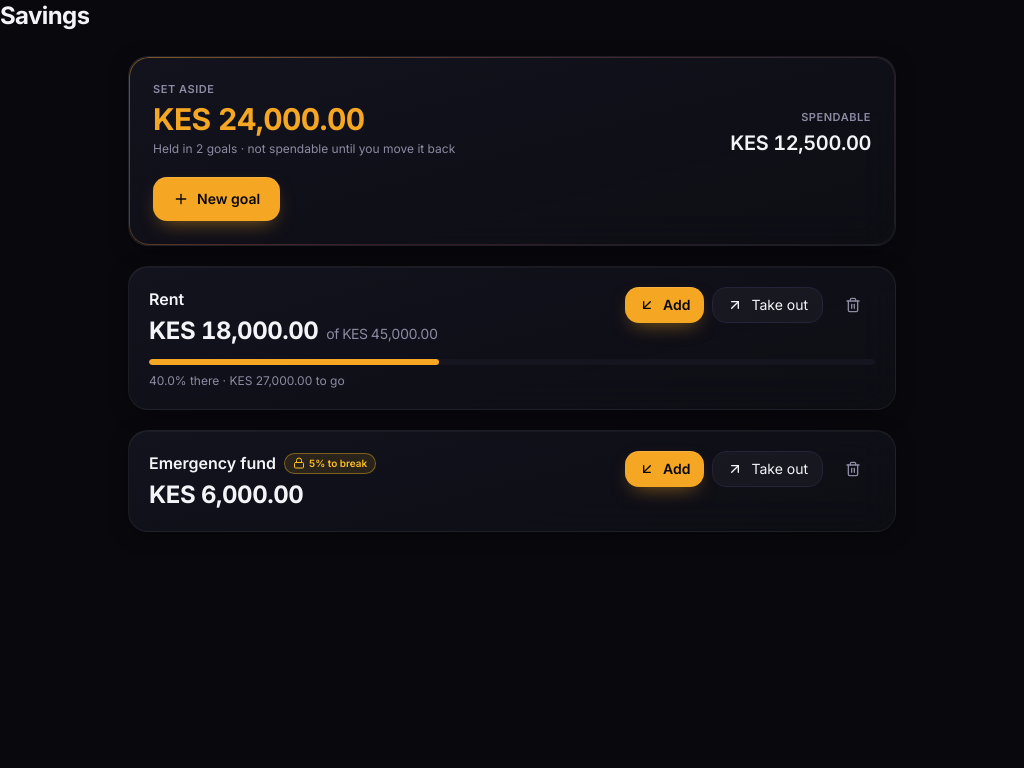
Test: Savings › refuses to take out more than a goal holds
The image size is (1024, 768).
Click the button "Take out" in the row of "% to break" at (768, 469), box [712,451,823,487]
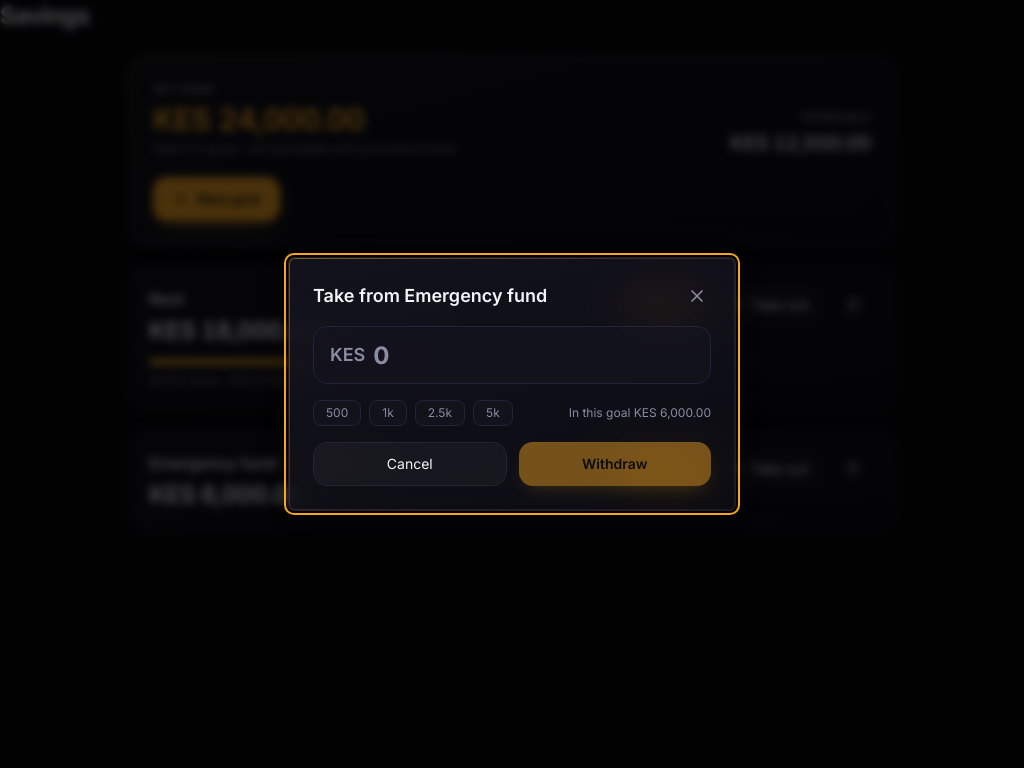
Type "9999" into the field named "amount" at (534, 355), box [373,327,694,383]
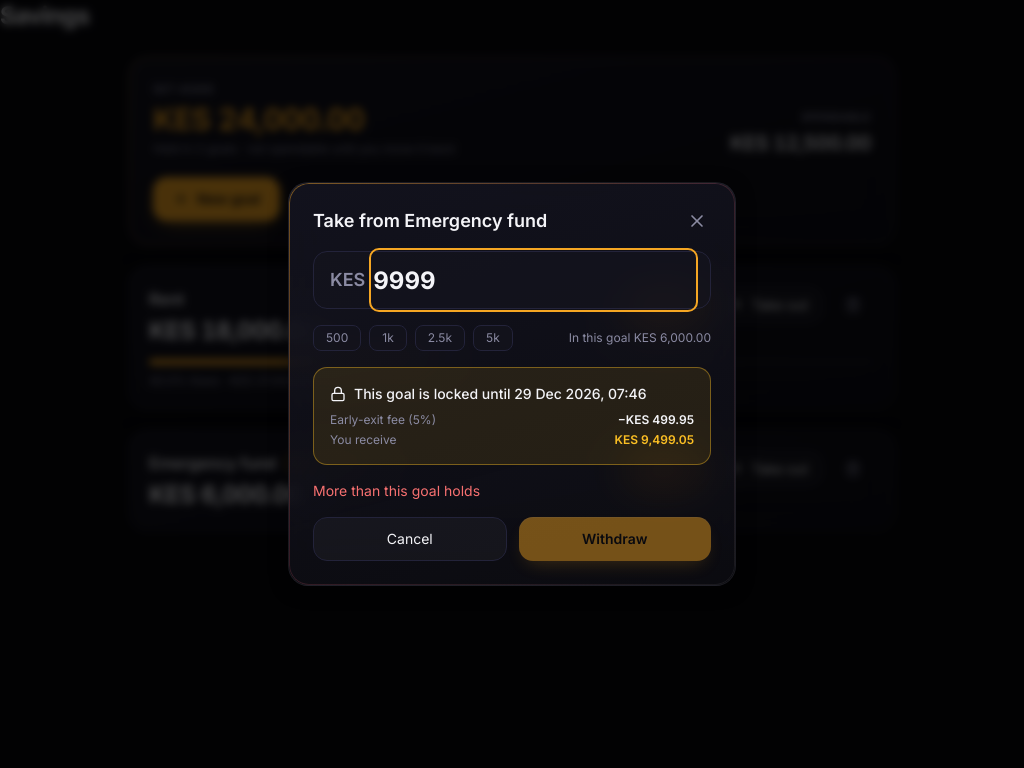
Now the button "Withdraw" is disabled, box [519,517,711,561]
Now the text "More than this goal holds" is shown, box [313,482,480,499]
